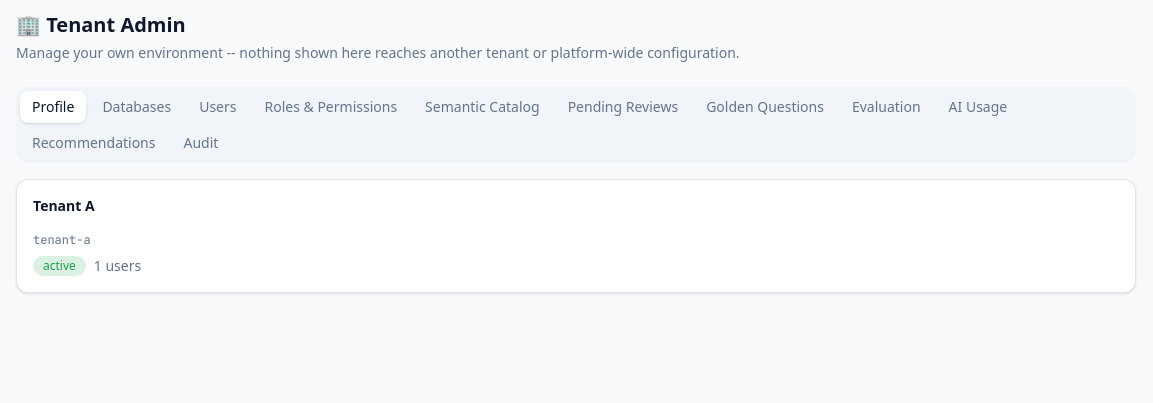
Test case: TenantAdmin › shows each database's refresh outcome, including a per-database failure
The image size is (1153, 403).
Click the tab "Databases": (137, 107) [90, 91, 183, 123]
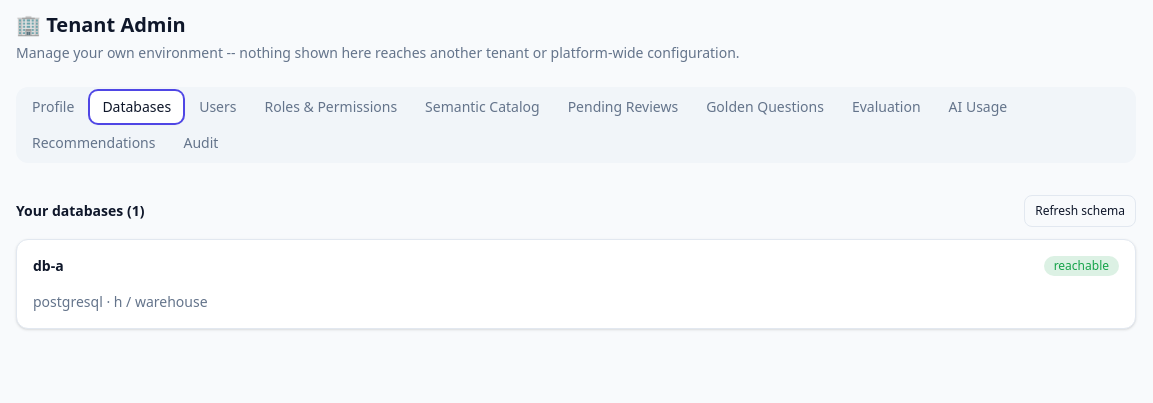
Click the button "Refresh schema": (1080, 211) [1024, 195, 1136, 227]
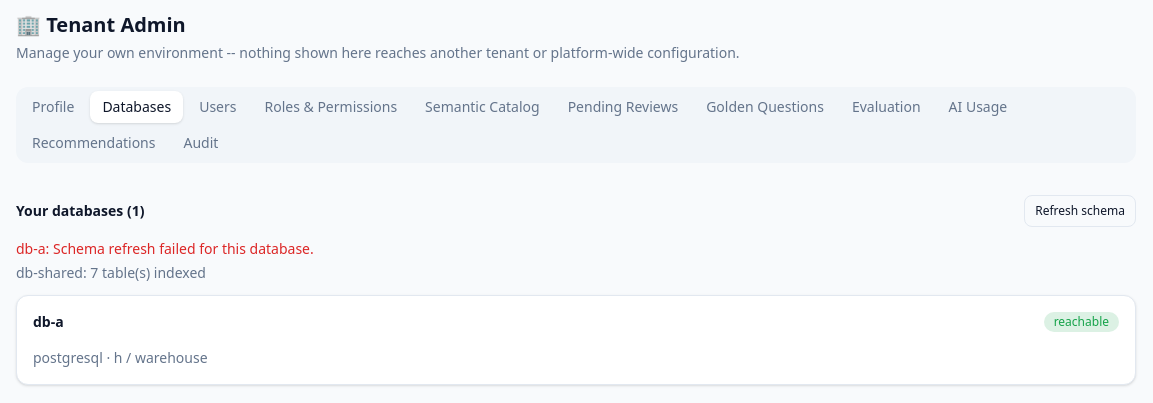
Check: the list item "db-a: Schema refresh failed for this database." is shown, box [16, 239, 314, 258]
Check: the list item "db-shared: 7 table(s) indexed" is shown, box [16, 263, 206, 282]
